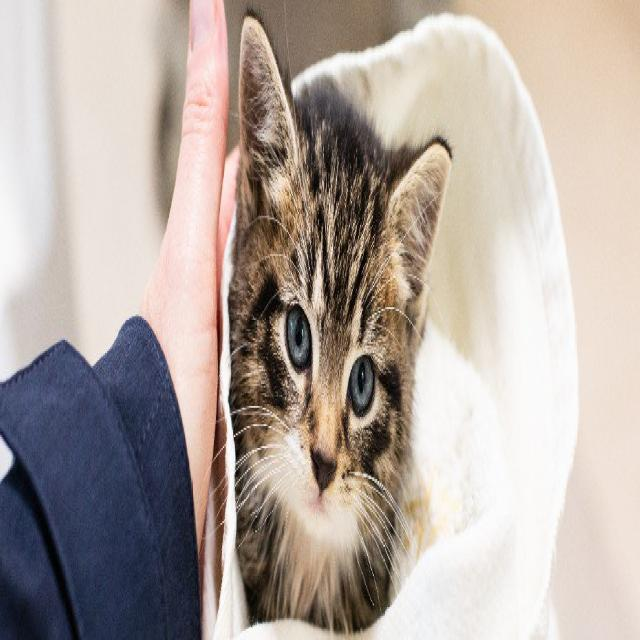cat: (210, 145, 420, 621)
